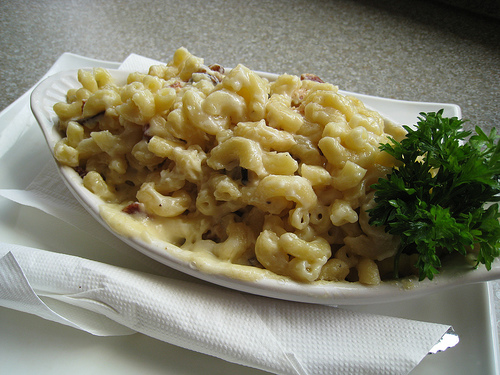macncheese: (53, 47, 398, 290)
